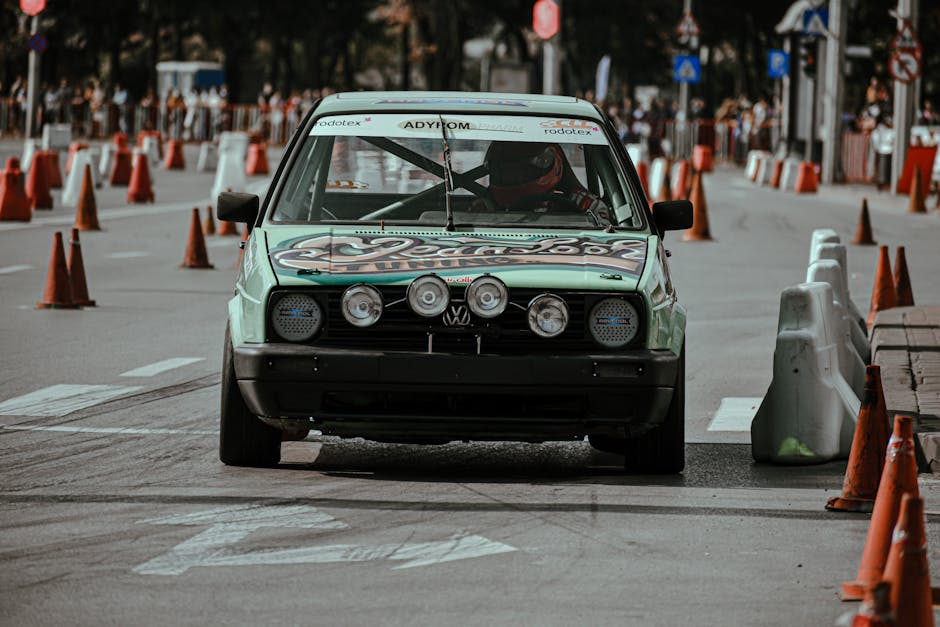traffic_cone: (840, 414, 921, 602), (851, 493, 935, 626), (825, 364, 893, 513), (34, 231, 83, 310), (866, 245, 898, 333), (680, 169, 717, 242), (67, 228, 97, 307), (178, 207, 215, 270), (72, 164, 104, 232), (0, 156, 32, 222), (27, 151, 54, 211), (126, 150, 155, 205), (850, 197, 878, 246), (109, 132, 133, 186), (894, 245, 915, 306), (217, 188, 239, 236), (907, 164, 928, 214), (233, 223, 250, 270), (165, 138, 186, 170), (636, 160, 652, 201), (255, 140, 270, 175), (245, 142, 258, 176), (204, 206, 216, 235)
